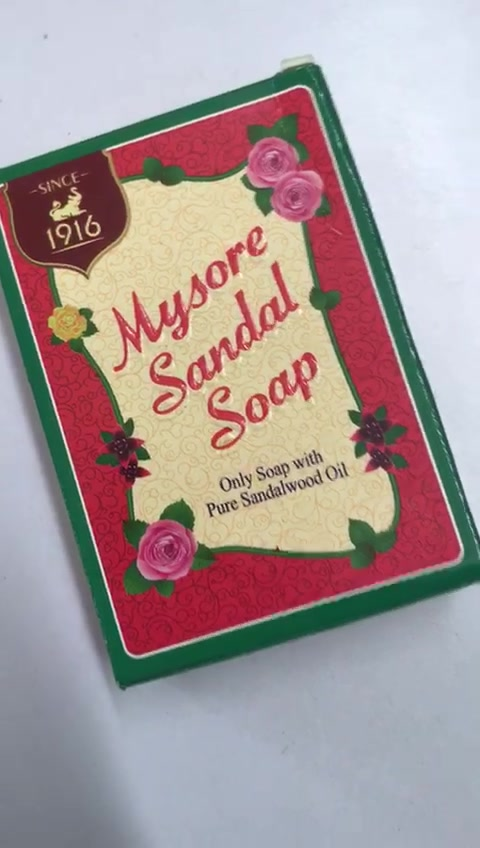mysoresandalsoap: (1, 73, 480, 690)
